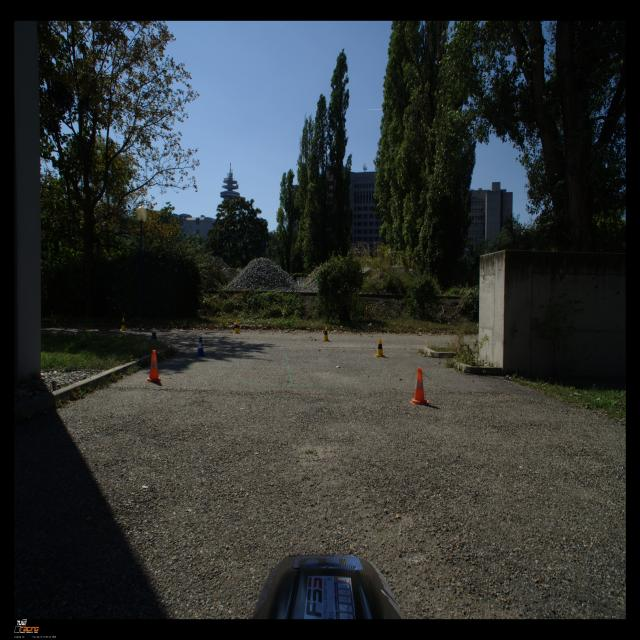blue_cone: (194, 337, 208, 357), (150, 332, 157, 340)
orange_cone: (409, 367, 429, 405), (146, 350, 162, 383)
yellow_cone: (374, 338, 386, 358), (321, 326, 331, 342), (120, 318, 128, 330), (233, 321, 240, 334)
